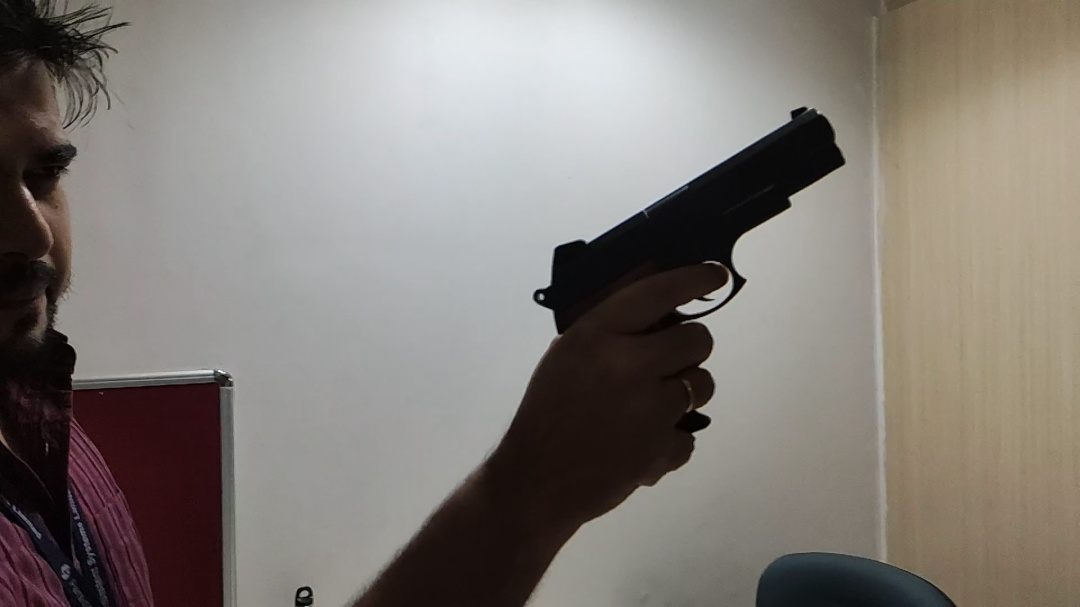gun: (532, 103, 851, 437)
